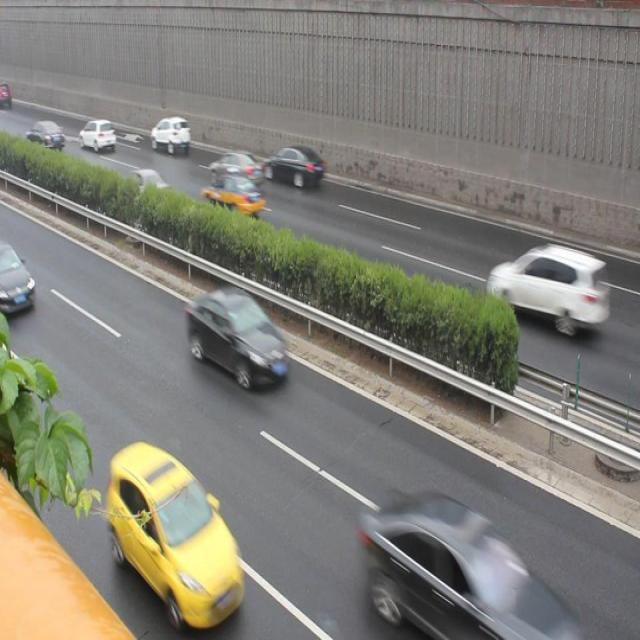car: (362, 489, 572, 640), (106, 443, 246, 617), (487, 242, 606, 333), (187, 290, 292, 391), (264, 144, 326, 194), (203, 173, 263, 223), (1, 245, 37, 322), (207, 148, 262, 189), (127, 165, 170, 207), (149, 115, 192, 155), (28, 116, 67, 158), (79, 114, 114, 153)
